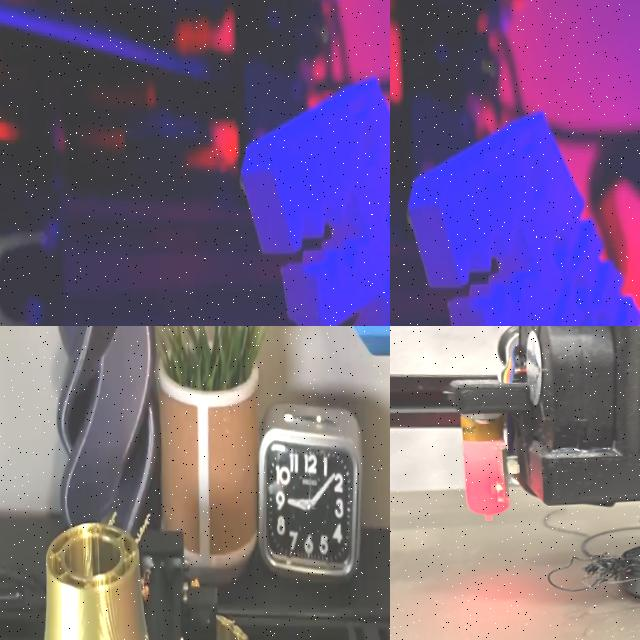spaghetti: (546, 519, 640, 602), (106, 492, 156, 550)
